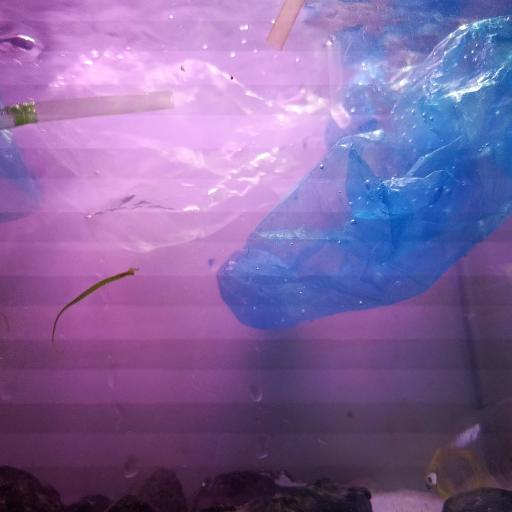plastic_bag: (224, 25, 512, 307), (16, 23, 309, 236)
